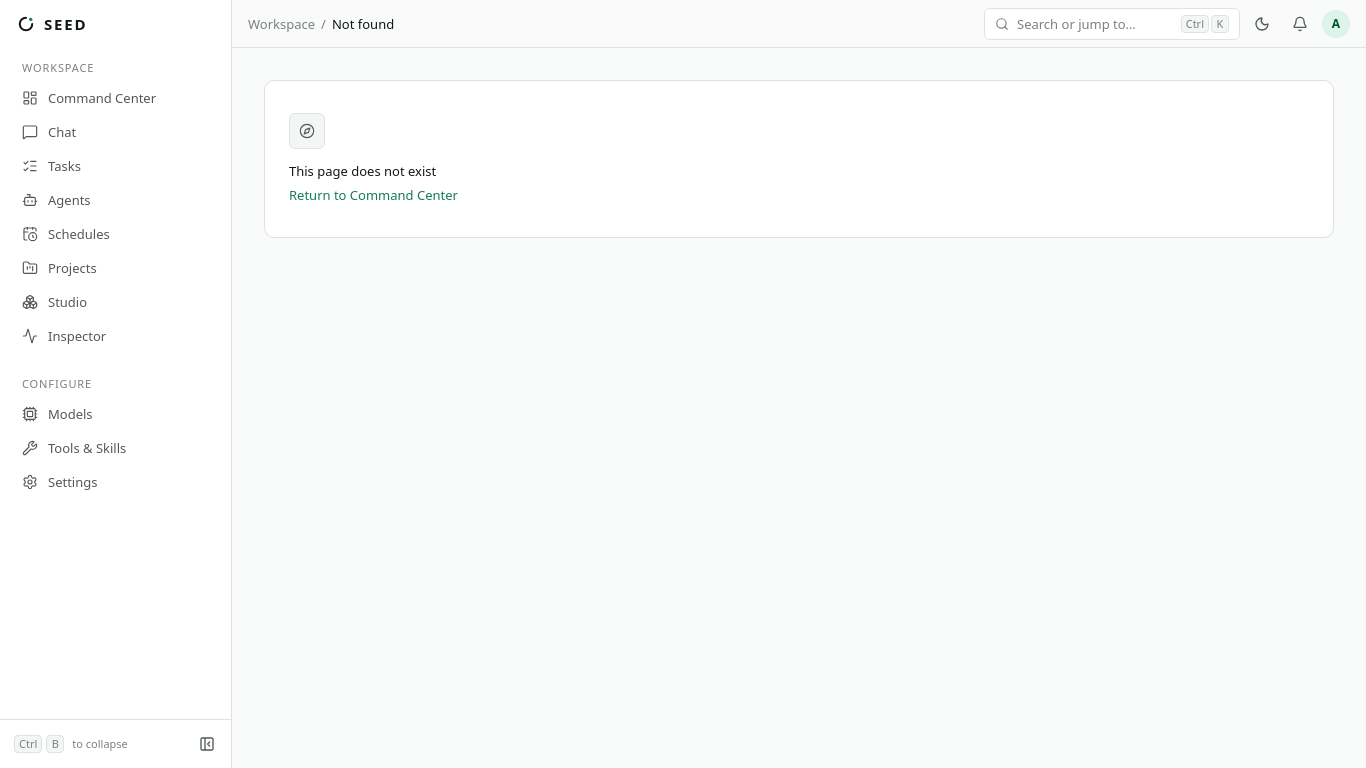
Test: Notification bell › shows why the list could not load
Click the button named "Notifications".
click(1300, 24)  # box [1284,8,1316,40]
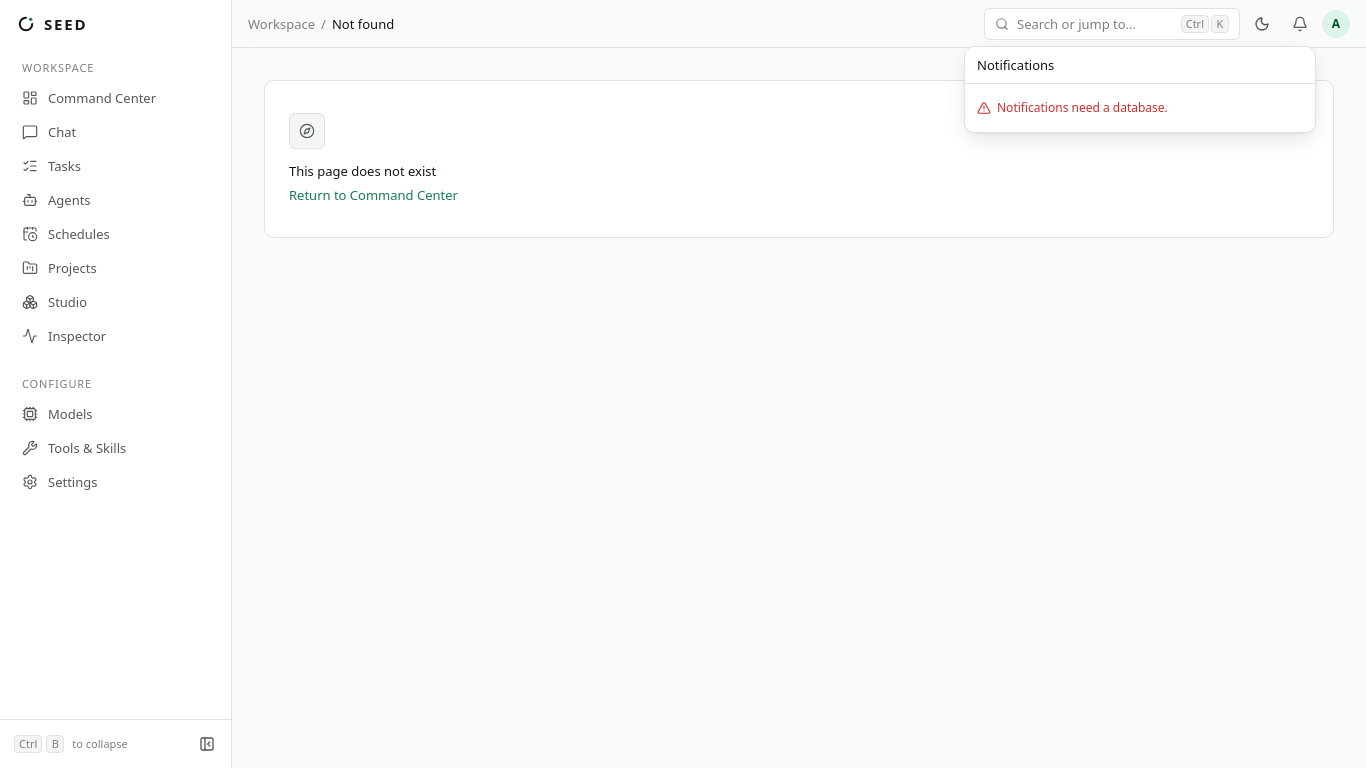
Now the message reads "Notifications need a database.", box [997,99,1168,116]
